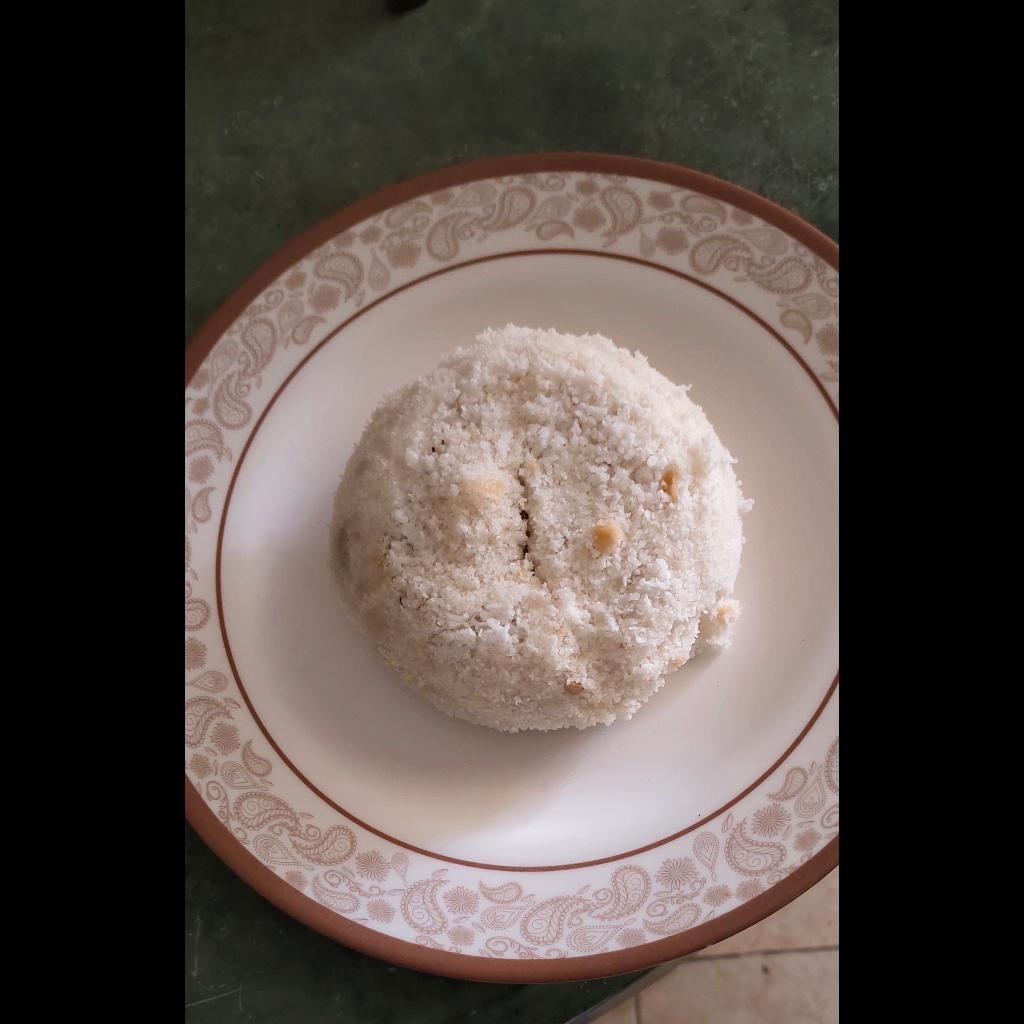sweets: (326, 325, 749, 742)
